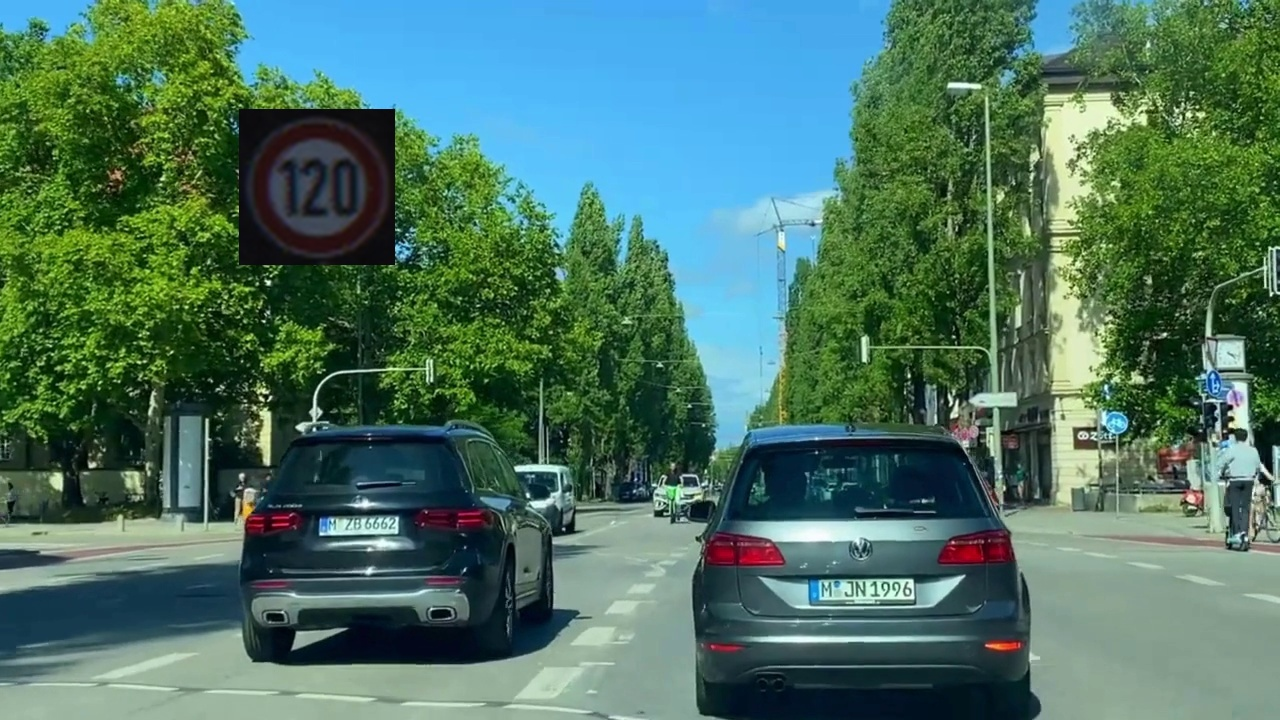Speed 120: (239, 109, 395, 265)
